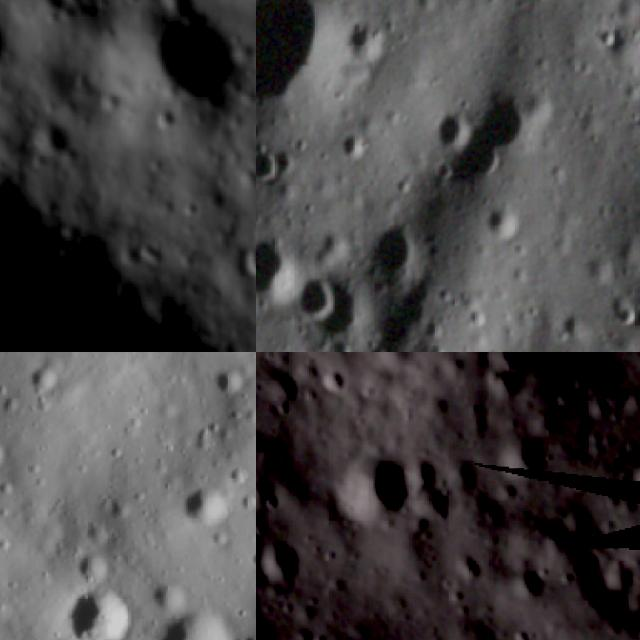crater: (136, 0, 244, 130), (256, 0, 342, 114), (336, 442, 424, 534), (52, 570, 146, 640), (137, 590, 248, 640), (172, 471, 241, 537), (472, 82, 528, 152), (496, 425, 556, 482), (64, 536, 124, 584), (256, 537, 305, 589), (371, 224, 418, 278), (479, 352, 558, 384), (204, 352, 255, 401), (256, 235, 295, 298), (293, 268, 339, 320), (24, 352, 71, 402), (435, 92, 471, 148), (566, 545, 617, 584), (481, 203, 522, 248), (346, 16, 381, 58), (511, 564, 544, 604), (0, 418, 17, 490), (256, 136, 282, 180), (626, 439, 640, 504), (0, 13, 17, 62), (238, 241, 256, 284), (232, 621, 256, 640), (606, 342, 640, 352)
